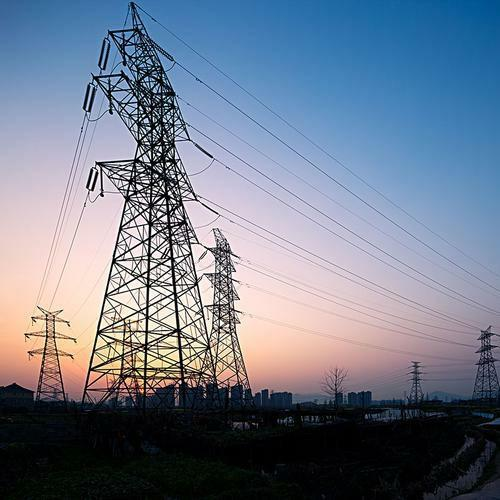power_tower: (83, 6, 207, 418), (195, 223, 262, 401), (23, 299, 79, 406), (470, 320, 500, 405), (406, 355, 431, 404)
